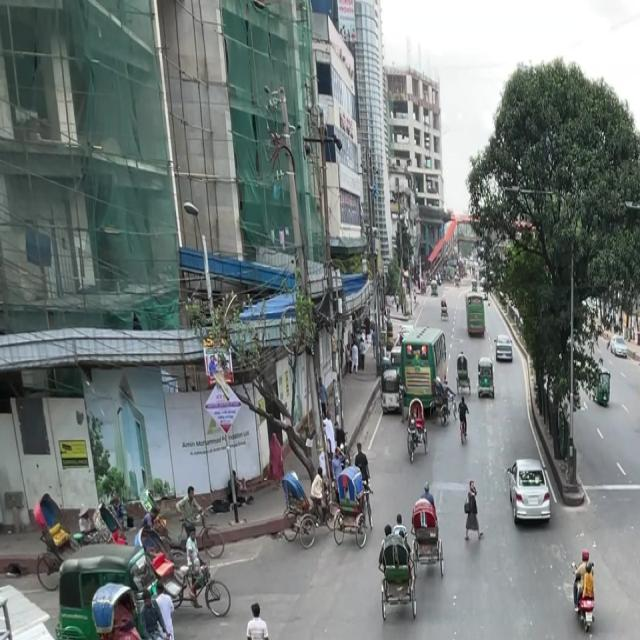bicycle: (453, 389, 474, 447)
bus: (400, 326, 448, 399), (465, 300, 487, 342), (637, 339, 640, 449)
car: (503, 452, 558, 533), (493, 330, 518, 370)
motorbike: (565, 540, 604, 635)
rickshaw: (49, 544, 116, 640), (476, 352, 496, 402)
